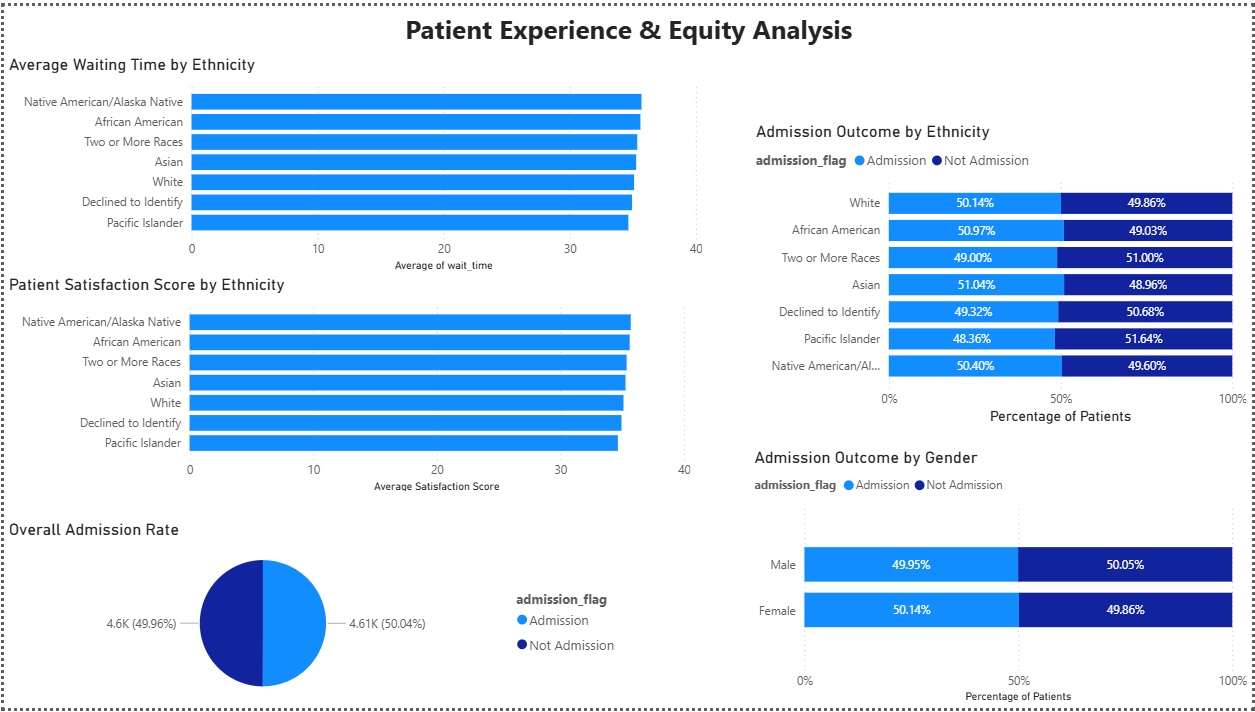

Layout of this report page (visuals, bound fields, positions):
{"tool":"powerbi","page":{"name":"Patient Experience & Equity Analysis","canvas":[1280,720],"ordinal":1},"visuals":[{"type":"textbox","box":[0,0,1281.5,48.1],"z":0},{"type":"clusteredBarChart","title":"Average Waiting Time by Ethnicity","fields":{"Category":["public patient_flow.patient_race"],"Y":["Avg(public patient_flow.wait_time)"]},"box":[0,48.5,721.2,227.3],"z":1000},{"type":"clusteredBarChart","title":"Patient Satisfaction Score by Ethnicity","fields":{"Category":["public patient_flow.patient_race"],"Y":["Avg(public patient_flow.wait_time)"]},"box":[0,275.8,709.1,227.3],"z":2000},{"type":"hundredPercentStackedBarChart","title":"Admission Outcome by Ethnicity","fields":{"Category":["public patient_flow.patient_race"],"Y":["CountNonNull(public patient_flow.patient_id)"],"Series":["public patient_flow.admission_flag"]},"box":[766.2,118.1,513.3,315],"z":3000},{"type":"hundredPercentStackedBarChart","title":"Admission Outcome by Gender","fields":{"Category":["public patient_flow.patient_gender"],"Y":["CountNonNull(public patient_flow.patient_id)"],"Series":["public patient_flow.admission_flag"]},"box":[764.7,452.7,514.8,266.5],"z":4000},{"type":"pieChart","title":"Overall Admission Rate","fields":{"Category":["public patient_flow.admission_flag"],"Y":["CountNonNull(public patient_flow.patient_id)"]},"box":[0,525.4,640.5,193.8],"z":5000}]}

Visuals, with their boxes in screenshot pixels (x1, y1, x2, y2), scaled from the page's 1280x720 canvas onto the 1255x712 screenshot:
textbox: detection(0, 0, 1254, 48)
"Average Waiting Time by Ethnicity" clusteredBarChart: detection(0, 48, 707, 273)
"Patient Satisfaction Score by Ethnicity" clusteredBarChart: detection(0, 273, 695, 498)
"Admission Outcome by Ethnicity" hundredPercentStackedBarChart: detection(751, 117, 1254, 428)
"Admission Outcome by Gender" hundredPercentStackedBarChart: detection(750, 448, 1254, 711)
"Overall Admission Rate" pieChart: detection(0, 520, 628, 711)
